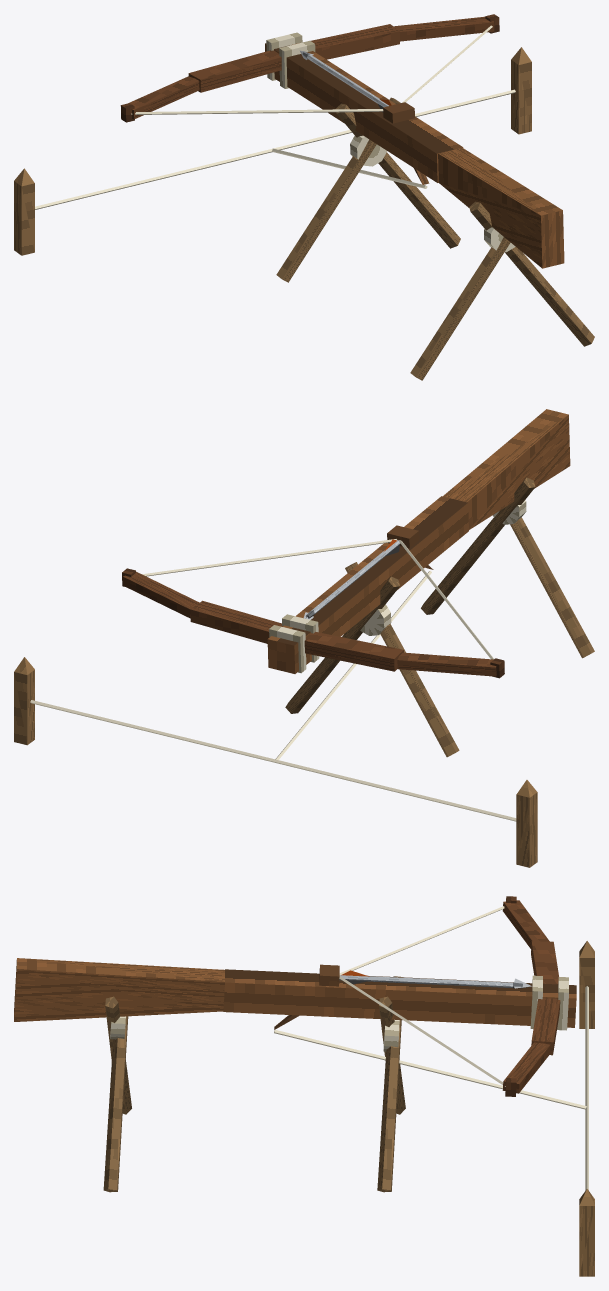
The model's file is tr_crossbow.glb.
The picture shows the model from 3 angles, top to bottom: view 1: azimuth 30°, elevation 25°; view 2: azimuth 150°, elevation 25°; view 3: azimuth 270°, elevation 25°; orthographic projection. The views are drawn at different scales.
Visible parts, largest first — view 1: block_rest stick (×4), block_butt, block_tiller, block_prod limb (×4), block_stake (×2), block_string (×3), block_prod lashing (×2), block_lashing, block_shaft, block_nut; view 2: block_tiller, block_rest stick (×4), block_prod limb (×4), block_butt, block_string (×3), block_stake (×2), block_prod lashing, block_shaft; view 3: block_tiller, block_butt, block_rest stick (×4), block_prod limb (×4), block_string (×4), block_stake (×2), block_shaft, block_prod lashing.
Boxes of the visible parts, bbox=[...] form: block_rest stick (×4): bbox=[276, 97, 594, 380]; block_butt: bbox=[438, 147, 564, 268]; block_tiller: bbox=[265, 43, 463, 182]; block_prod limb (×4): bbox=[128, 16, 494, 119]; block_stake (×2): bbox=[14, 47, 531, 255]; block_string (×3): bbox=[35, 89, 515, 209]; block_prod lashing (×2): bbox=[266, 32, 315, 88]; block_lashing: bbox=[350, 135, 387, 166]; block_shaft: bbox=[307, 54, 388, 107]; block_nut: bbox=[383, 102, 414, 123]; block_tiller: bbox=[267, 496, 468, 673]; block_rest stick (×4): bbox=[285, 477, 594, 757]; block_prod limb (×4): bbox=[123, 571, 496, 676]; block_butt: bbox=[443, 409, 570, 529]; block_string (×3): bbox=[30, 539, 516, 821]; block_stake (×2): bbox=[14, 657, 537, 867]; block_prod lashing: bbox=[269, 625, 306, 673]; block_shaft: bbox=[311, 540, 400, 614]; block_tiller: bbox=[223, 969, 576, 1027]; block_butt: bbox=[14, 958, 224, 1021]; block_rest stick (×4): bbox=[103, 976, 405, 1192]; block_prod limb (×4): bbox=[502, 900, 560, 1093]; block_string (×4): bbox=[274, 906, 588, 1190]; block_stake (×2): bbox=[579, 941, 594, 1276]; block_shaft: bbox=[339, 975, 512, 987]; block_prod lashing: bbox=[557, 977, 568, 1030].
Size of the model in its own units: 0.924 by 0.3216 by 0.8914.
Materials: 2 (2 with a texture image).
